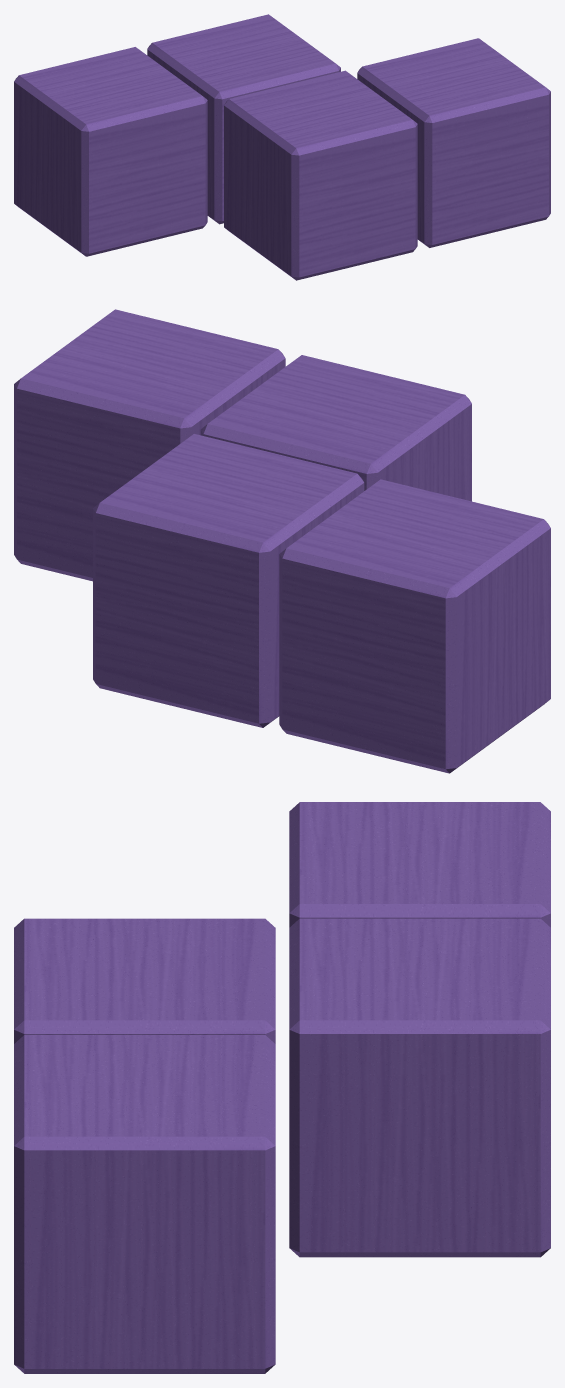
Rendered from piece_Z.glb.
3 renders of one model, top to bottom at view 1: azimuth 30°, elevation 25°; view 2: azimuth 150°, elevation 25°; view 3: azimuth 270°, elevation 25°, orthographic. The views are drawn at different scales.
Parts seen in each view (by area): view 1: piece_Z; view 2: piece_Z; view 3: piece_Z.
Part boxes in pixels (bbox=[...]): piece_Z: bbox=[14, 14, 550, 280]; piece_Z: bbox=[14, 309, 550, 773]; piece_Z: bbox=[14, 802, 550, 1373].
Bounding box in the file's own units: 0.118 × 0.038 × 0.078.
Materials: 1 (1 with a texture image).
